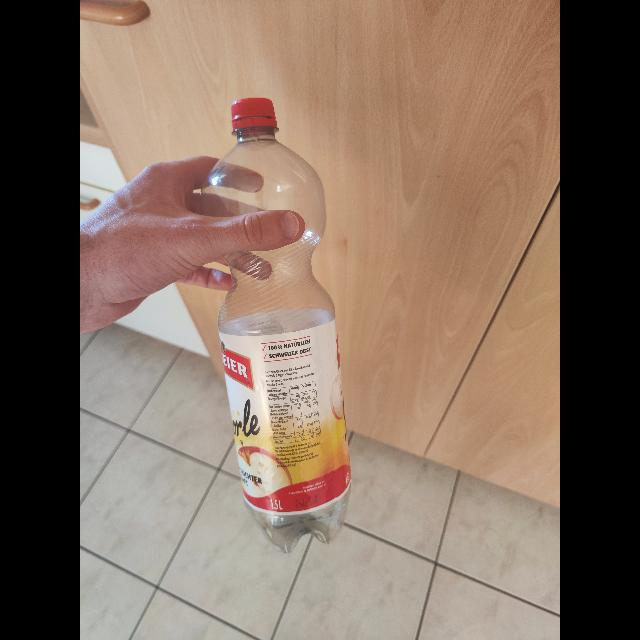Plastic: (202, 97, 364, 558)
